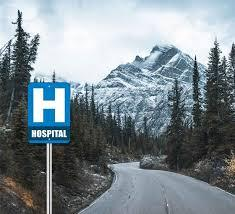Hospital: (26, 86, 71, 145)
